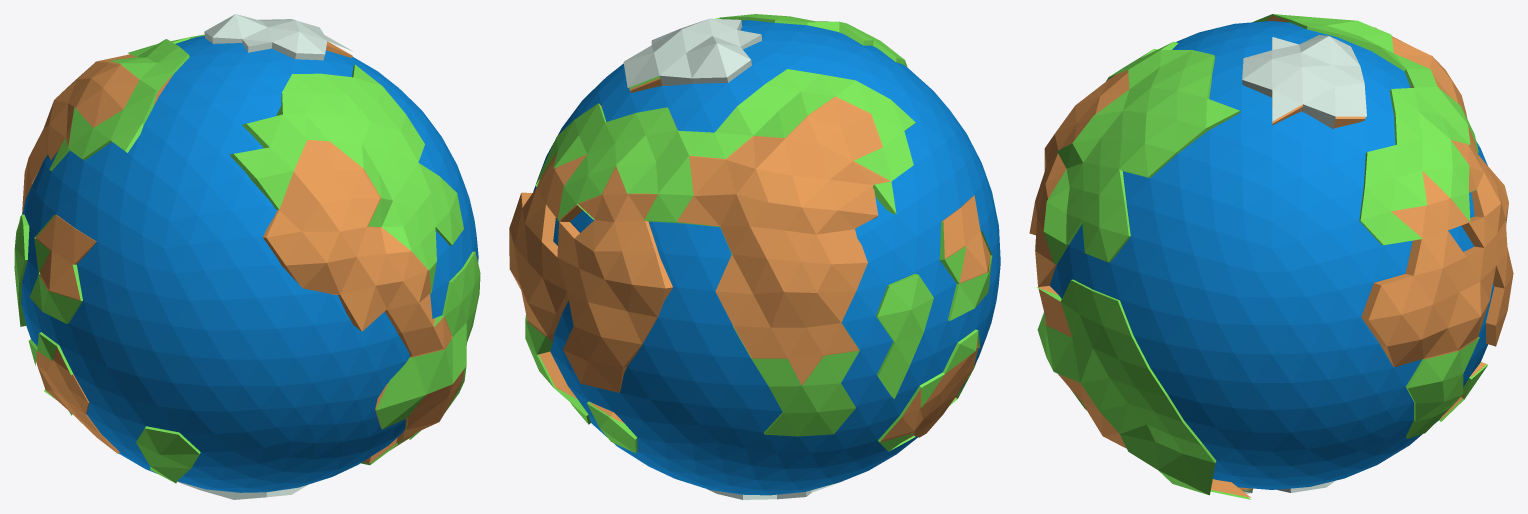
File: earth.glb
3 views of the same model, side by side, from view 1: azimuth 30°, elevation 25°; view 2: azimuth 150°, elevation 25°; view 3: azimuth 270°, elevation 25° (orthographic). The views are drawn at different scales.
Visible parts, largest first — view 1: Icosphere.001, Icosphere.003, Icosphere, Icosphere.002; view 2: Icosphere.001, Icosphere, Icosphere.003, Icosphere.002; view 3: Icosphere.001, Icosphere.003, Icosphere, Icosphere.002.
Part boxes in pixels (<box>): Icosphere.001: <box>21,36,478,492</box>; Icosphere.003: <box>14,34,480,483</box>; Icosphere: <box>22,39,464,463</box>; Icosphere.002: <box>177,14,353,499</box>; Icosphere.001: <box>533,20,1000,495</box>; Icosphere: <box>509,77,990,442</box>; Icosphere.003: <box>525,14,992,453</box>; Icosphere.002: <box>623,18,843,499</box>; Icosphere.001: <box>1049,21,1494,489</box>; Icosphere.003: <box>1036,14,1487,499</box>; Icosphere: <box>1029,16,1513,497</box>; Icosphere.002: <box>1242,35,1366,493</box>.
Size of the model in its own units: 2.84 by 2.95 by 2.86.
